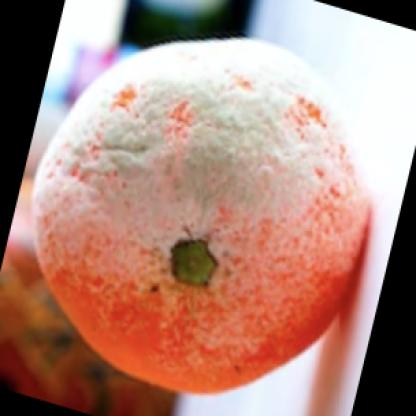rotten: (31, 37, 374, 394)
